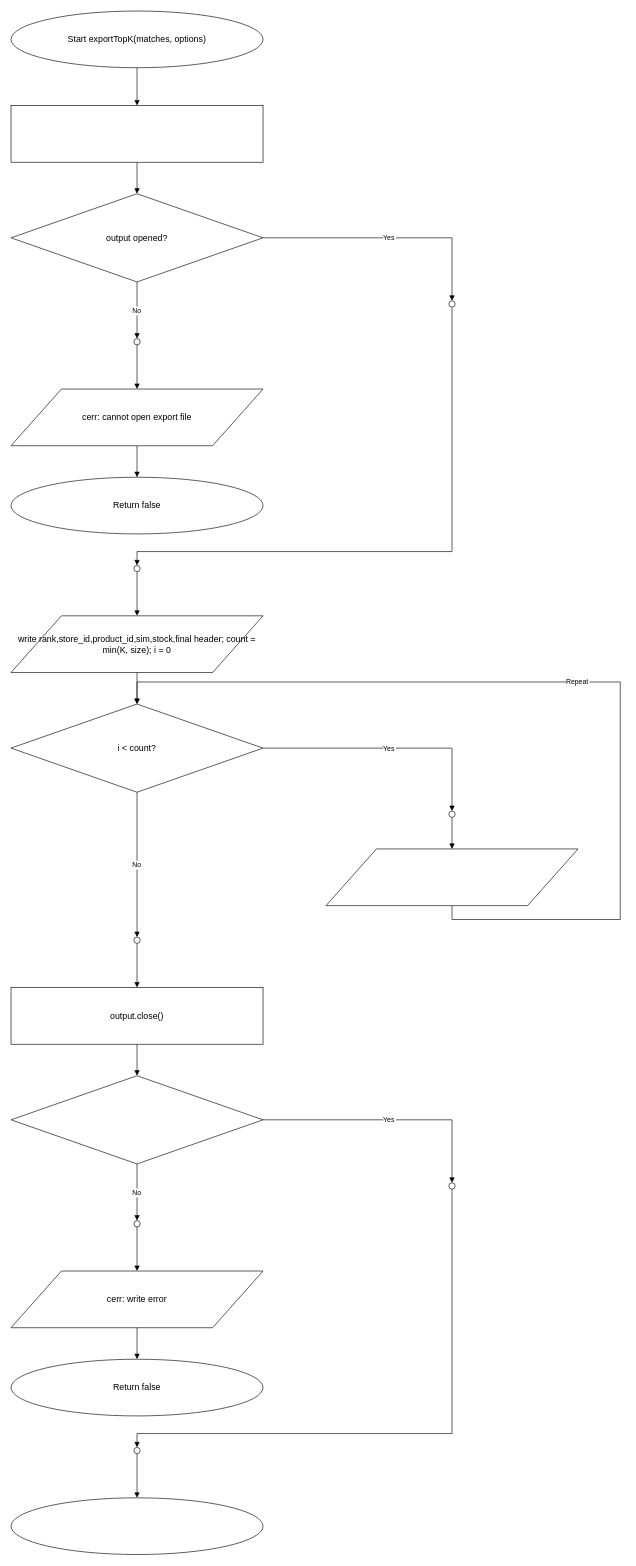
Some shapes in this 636 by 1566 pixel diagram are drawn without their labels. Here are the shapes that lost their labels. From the top down, the centre of each, then its label:
At point 136,133: "open ofstream output(options.exportPath)".
At point 451,877: "write one Top-K row; ++i".
At point 136,1119: "output stream successful?".
At point 136,1526: "Return true".
